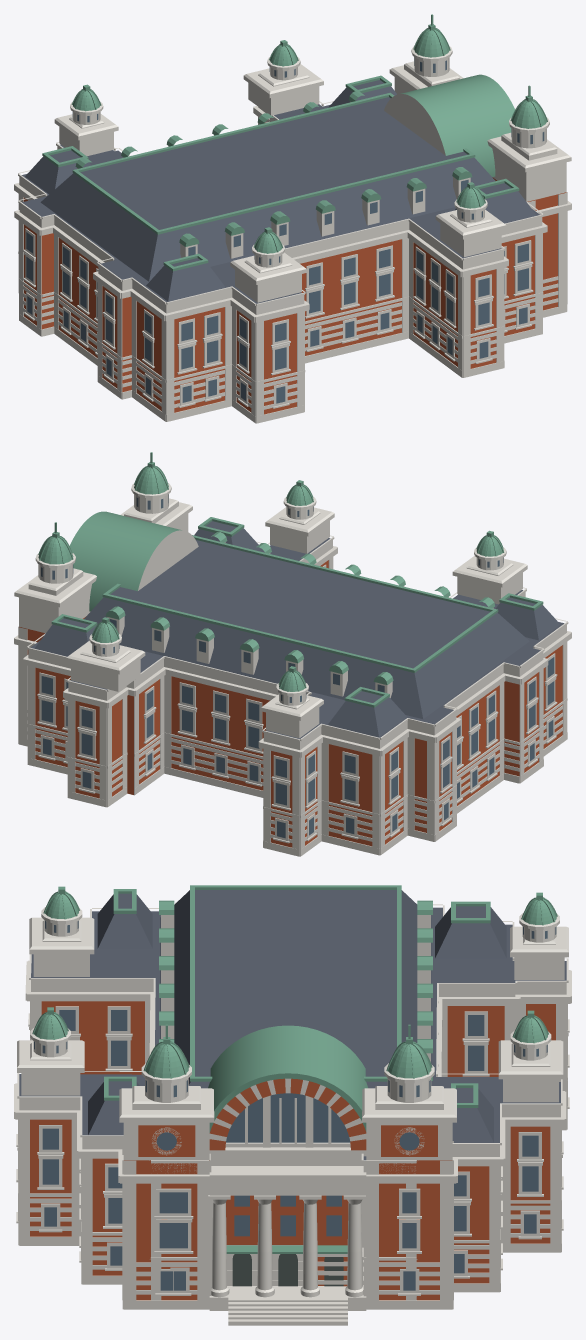
Rendered from osaka-central-public-hall.detail.glb.
3 views of the same model, one above another, from view 1: azimuth 30°, elevation 25°; view 2: azimuth 150°, elevation 25°; view 3: azimuth 270°, elevation 25° (orthographic). The views are drawn at different scales.
Parts seen in each view (by area): view 1: Osaka City Central Public Hall; view 2: Osaka City Central Public Hall; view 3: Osaka City Central Public Hall.
Part boxes in pixels (x1,y1,x2,y2): Osaka City Central Public Hall: (14,14,571,423); Osaka City Central Public Hall: (14,452,571,856); Osaka City Central Public Hall: (14,885,571,1325).
Bounding box in the file's own units: 67.56 × 31 × 57.7.
